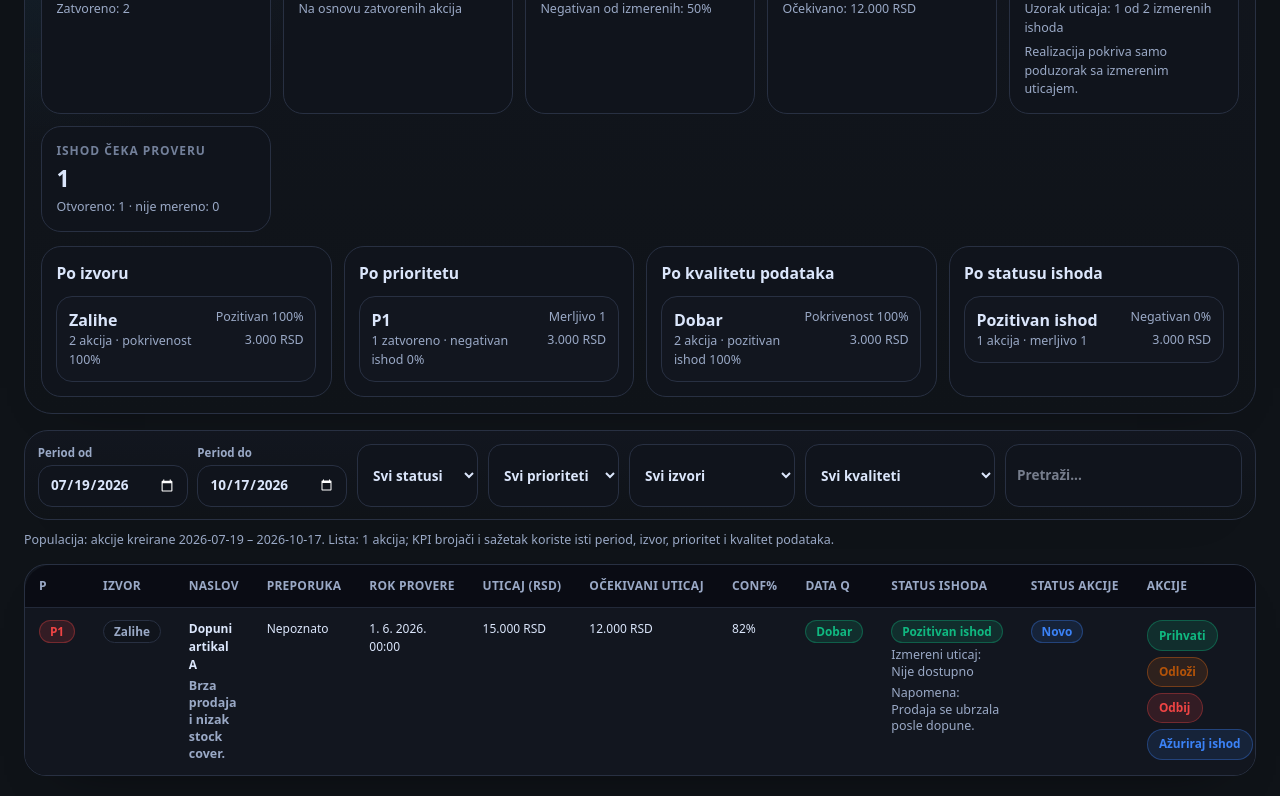
AnalyticsActionsPage › shows a permission warning and keeps the row unchanged when status update is forbidden
(page scrolled)
Expected: the text "Dopuni artikal A" is shown, x1=189 y1=620 x2=232 y2=673
Step 1. Click the button "Prihvati" → (1182, 636), box x1=1147 y1=620 x2=1218 y2=651
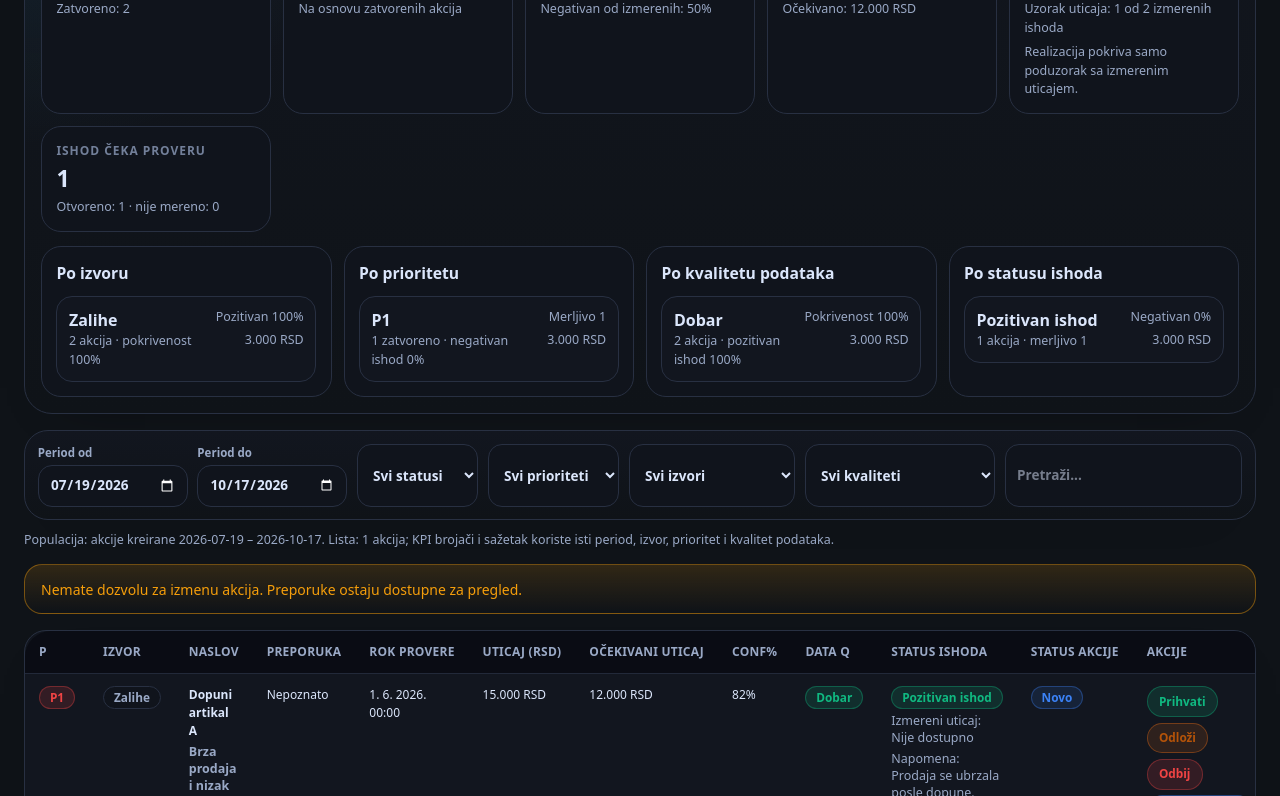
Expected: the text "Nemate dozvolu za izmenu akcija. Preporuke ostaju dostupne za pregled." is shown, x1=24 y1=564 x2=1256 y2=614
